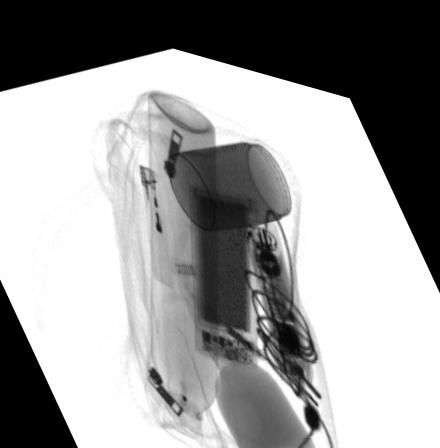Lighter: (139, 157, 171, 277)
Powerbank: (183, 169, 258, 360)
Sprayer: (149, 81, 217, 440)
